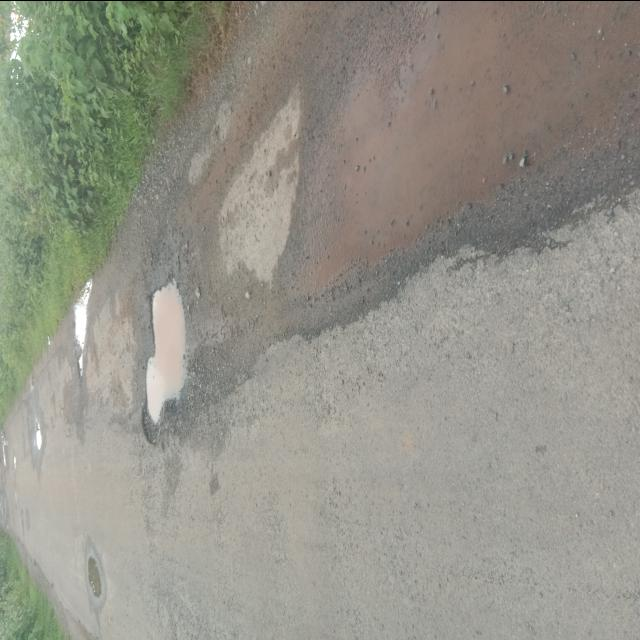potholes: (138, 271, 194, 464), (71, 269, 97, 379), (83, 545, 107, 607), (29, 417, 43, 454)
